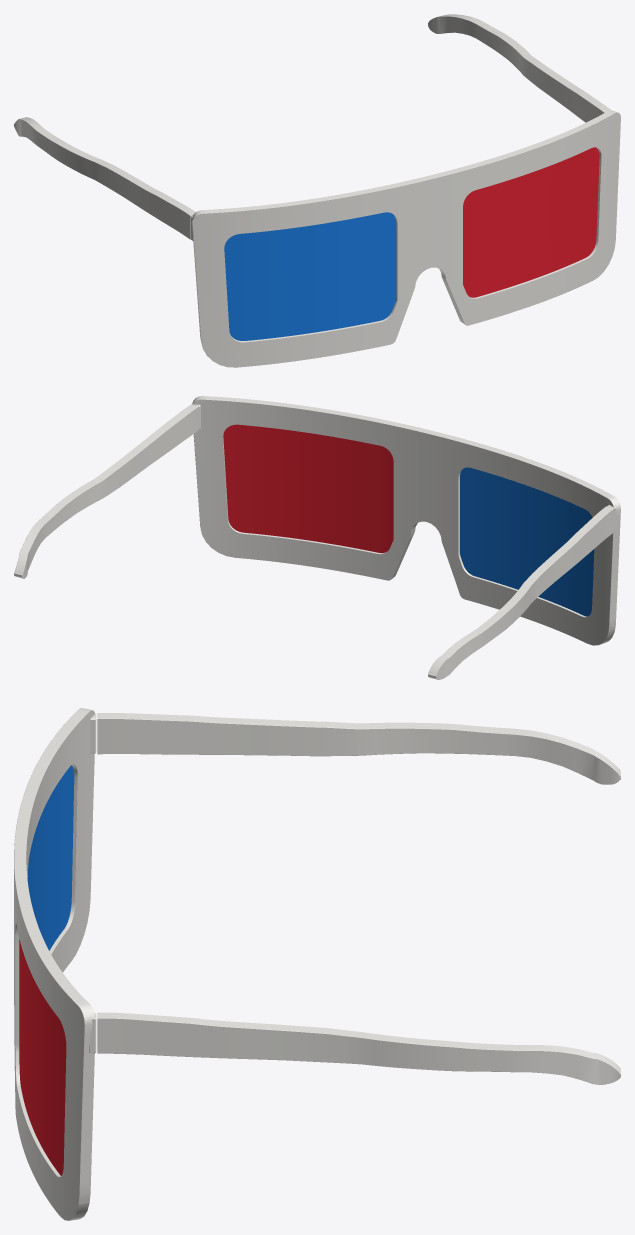
The model's file is lentes3d.glb.
3 renders of one model, top to bottom at view 1: azimuth 30°, elevation 25°; view 2: azimuth 150°, elevation 25°; view 3: azimuth 270°, elevation 25°, orthographic. The views are drawn at different scales.
Parts seen in each view (by area): view 1: Lentes3D; view 2: Lentes3D; view 3: Lentes3D.
Part boxes in pixels (x1,y1,x2,y2): Lentes3D: (14, 14, 620, 367); Lentes3D: (14, 396, 620, 679); Lentes3D: (14, 708, 620, 1220).
Size of the model in its own units: 0.4934 by 0.164 by 0.3915.
